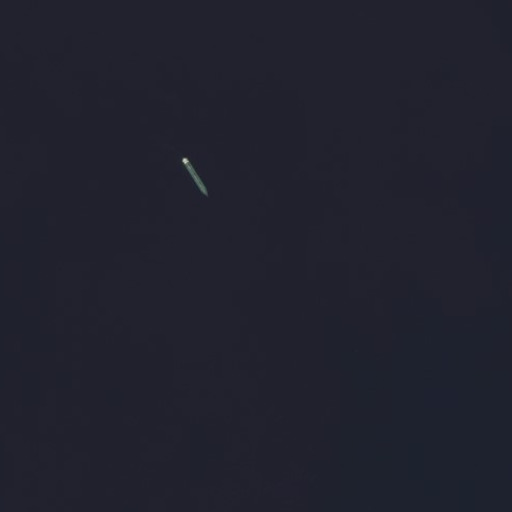ship: (178, 152, 212, 201)
